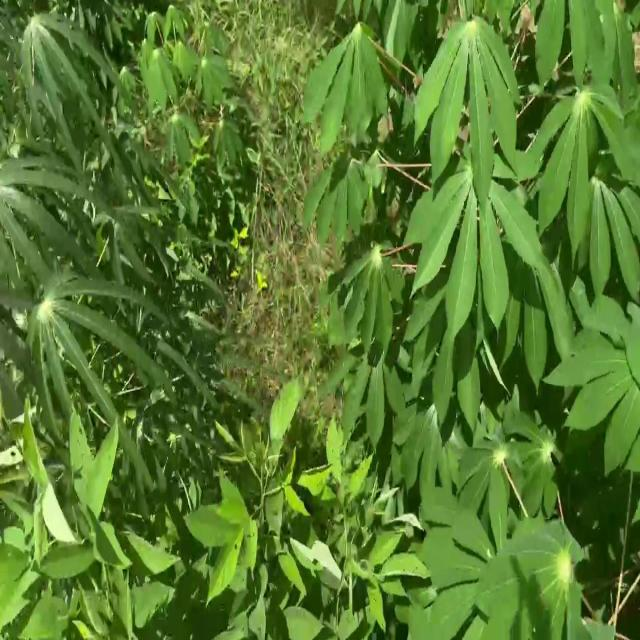Maleza: (206, 434, 404, 640)
Mosca: (469, 543, 504, 572), (592, 6, 619, 32)
